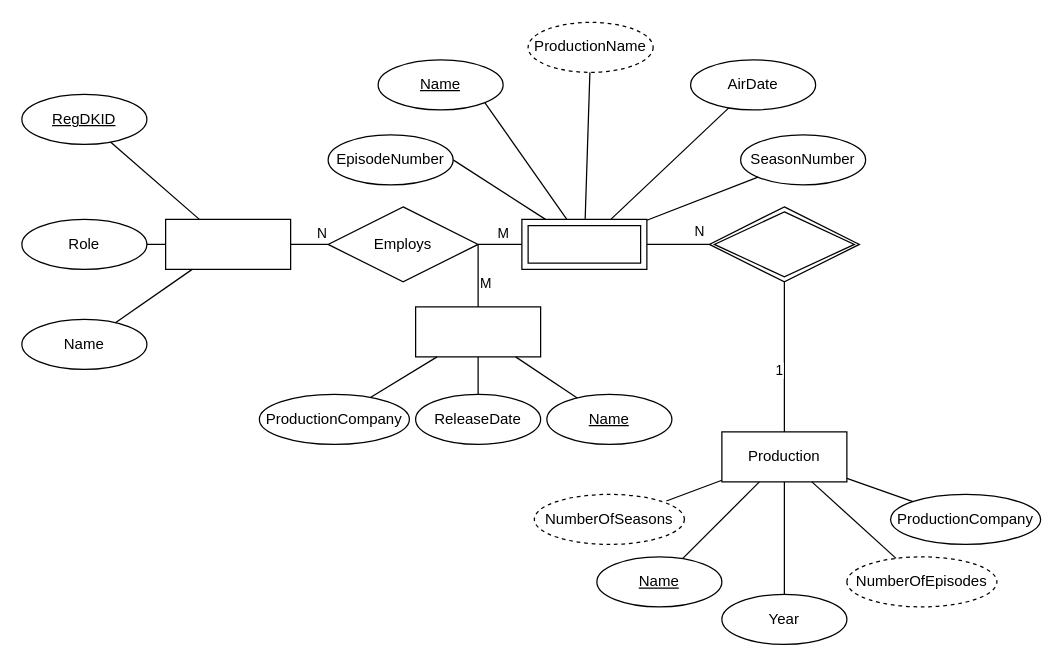
This 1063x666 diagram has some shape labels left out. Each missing label, with the centre of its shape:
"Broadcast" belongs at pixel 584 243.
"Cast" belongs at pixel 227 243.
"Contains" belongs at pixel 783 244.
"Movie" belongs at pixel 477 331.
